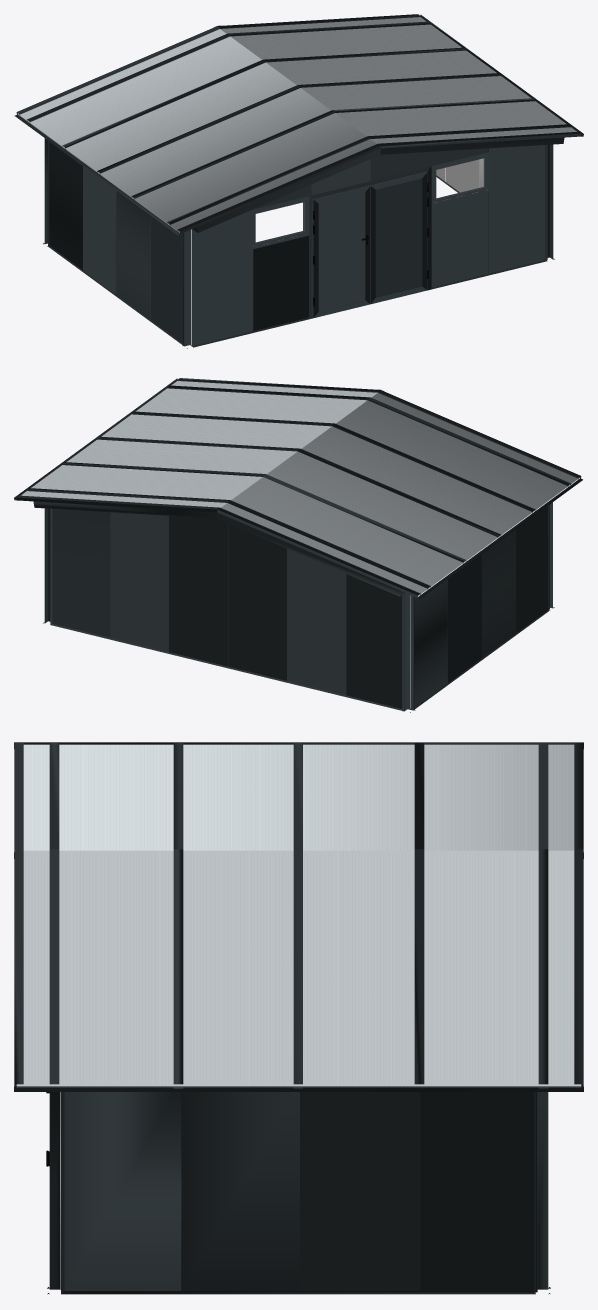
3 views of the same model, one above another, from view 1: azimuth 30°, elevation 25°; view 2: azimuth 150°, elevation 25°; view 3: azimuth 270°, elevation 25° (orthographic). The views are drawn at different scales.
Parts seen in each view (by area): view 1: priximbattable_net_abris_de_jardin_640007_abri_de_jardin_lav, folha, folha_2, porta_avec_hublot_1; view 2: priximbattable_net_abris_de_jardin_640007_abri_de_jardin_lav; view 3: priximbattable_net_abris_de_jardin_640007_abri_de_jardin_lav.
Boxes of the visible parts, x1,y1,x2,y2 form: priximbattable_net_abris_de_jardin_640007_abri_de_jardin_lav: (14,14,583,348); folha: (370,172,428,304); folha_2: (313,185,370,318); porta_avec_hublot_1: (309,166,431,319); priximbattable_net_abris_de_jardin_640007_abri_de_jardin_lav: (14,378,582,712); priximbattable_net_abris_de_jardin_640007_abri_de_jardin_lav: (14,742,583,1294).
Size of the model in its own units: 689 by 270 by 480.
1 material, 1 textured.
